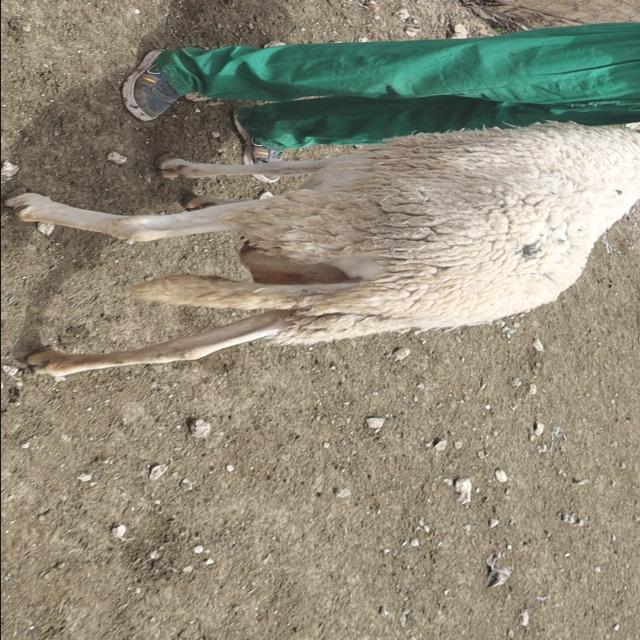Score_4: (4, 122, 640, 376)
